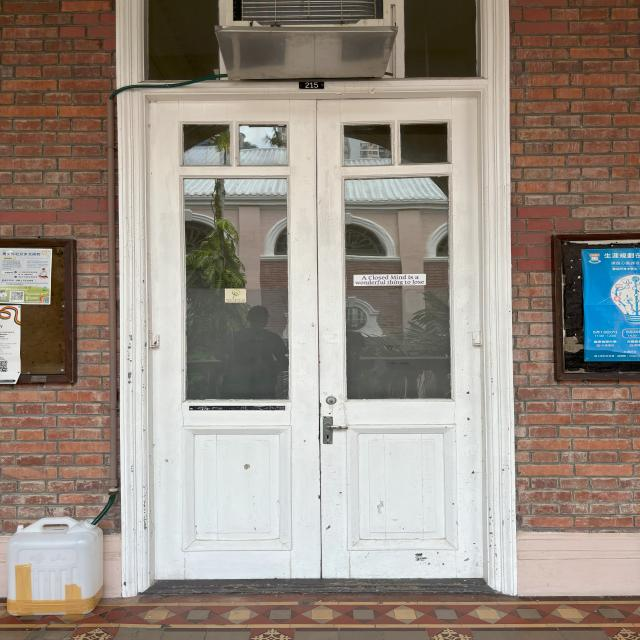MB215_roomNumber: (294, 78, 328, 92)
